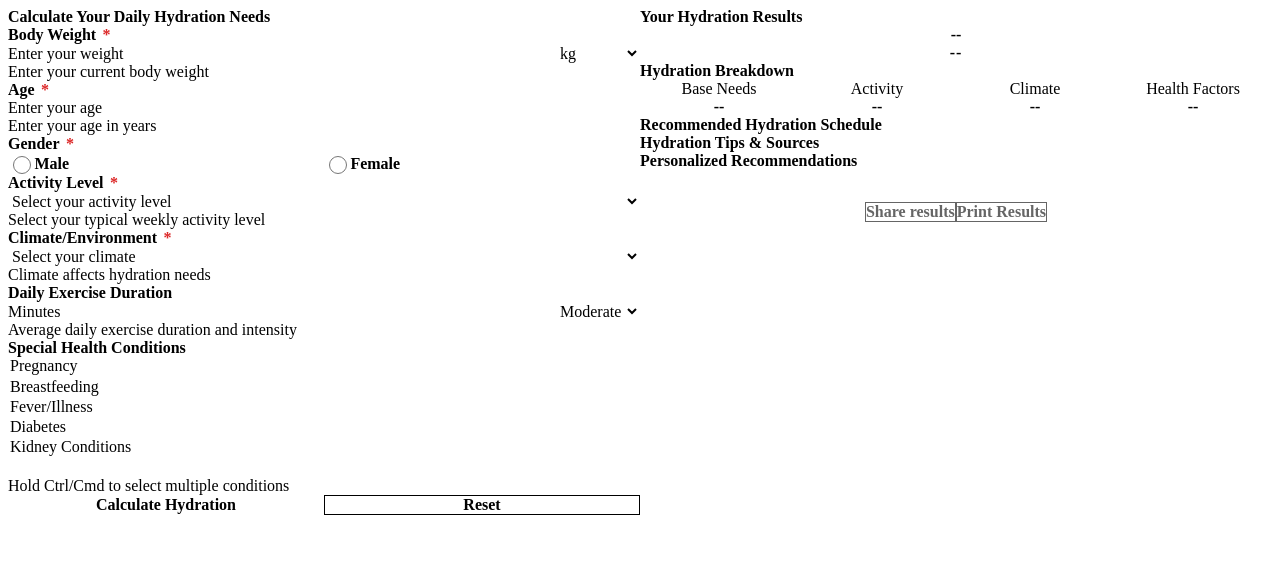
HydrationCalculator › applies multiple selected health conditions
This screenshot has width=1280, height=581.
Type "80" into the number field named "Body Weight" at (282, 54), box [8,44,556,63]
Type "30" into the number field labelled "Age" at (324, 108), box [8,99,640,117]
Click the radio button labelled "Male" at (22, 165), box [13,156,31,174]
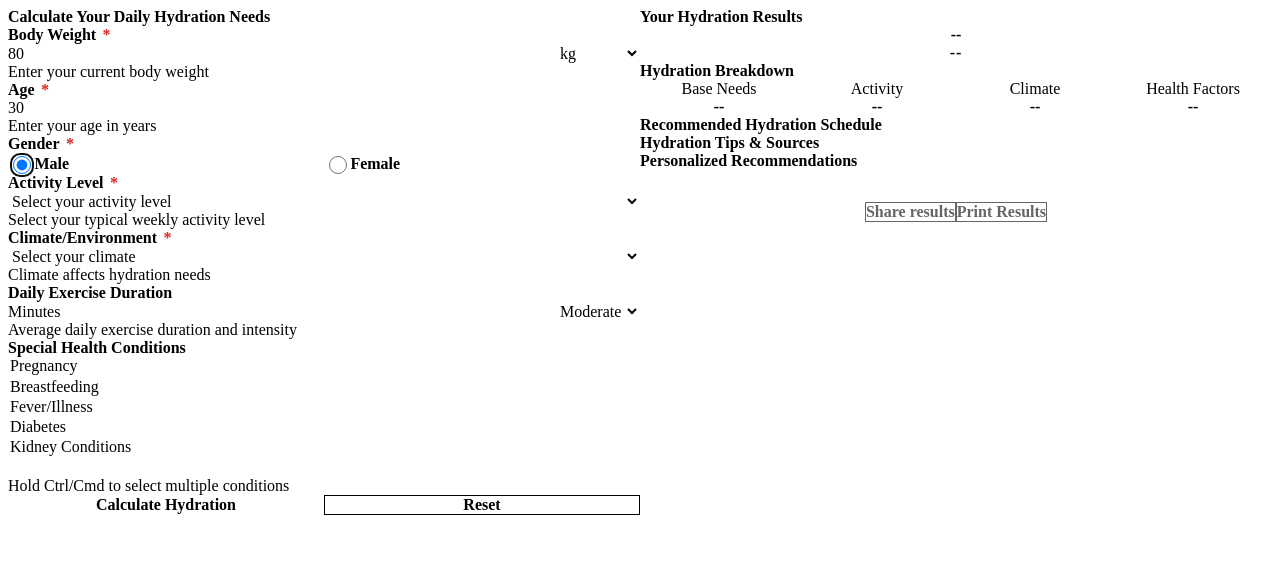
Select "Moderate (exercise 3-5 days/week)" in the dropdown labelled "Activity Level" at (324, 202), box [8,192,640,211]
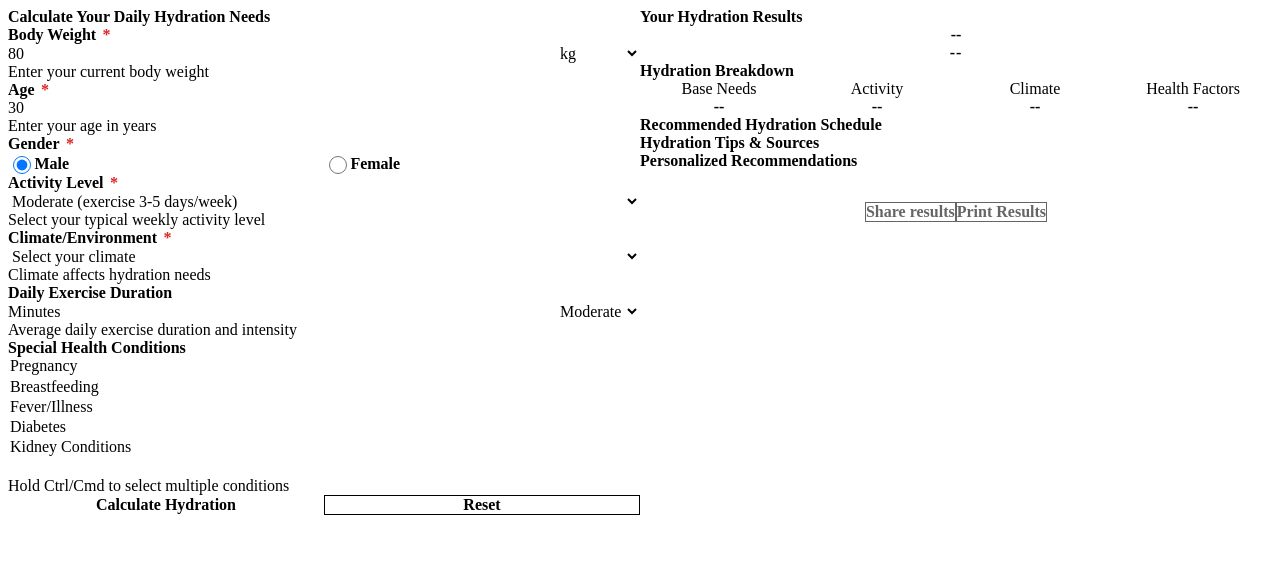
Select "Temperate (moderate temperature)" in the dropdown labelled "Climate/Environment" at (324, 257), box [8,247,640,266]
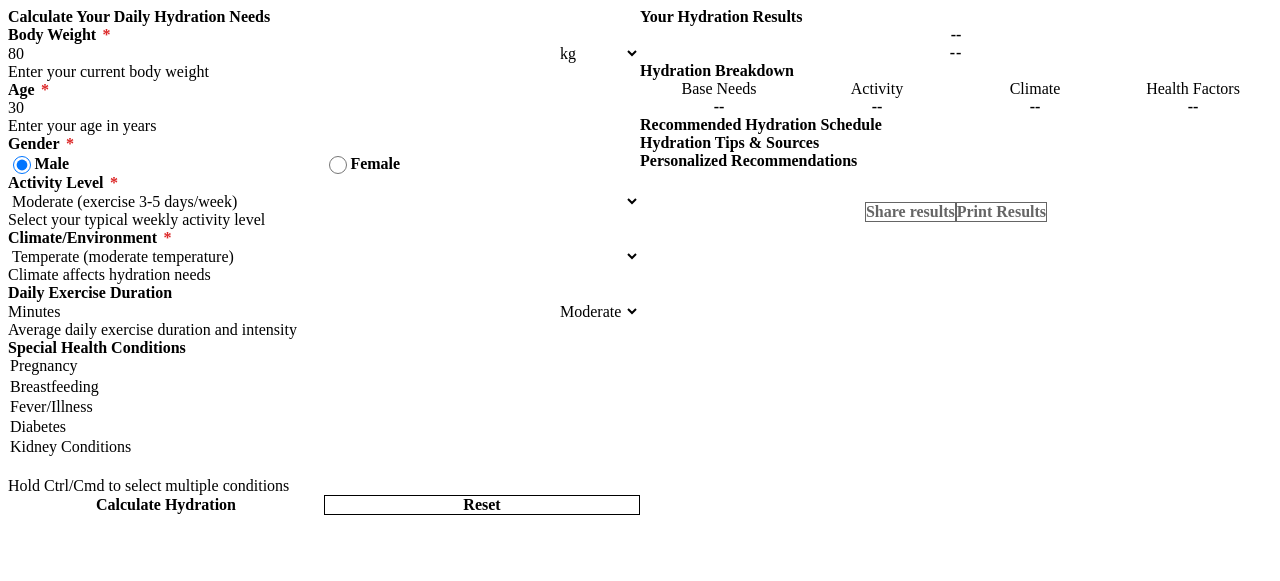
Type "60" into the number field named "Daily Exercise Duration" at (282, 312), box [8,302,556,321]
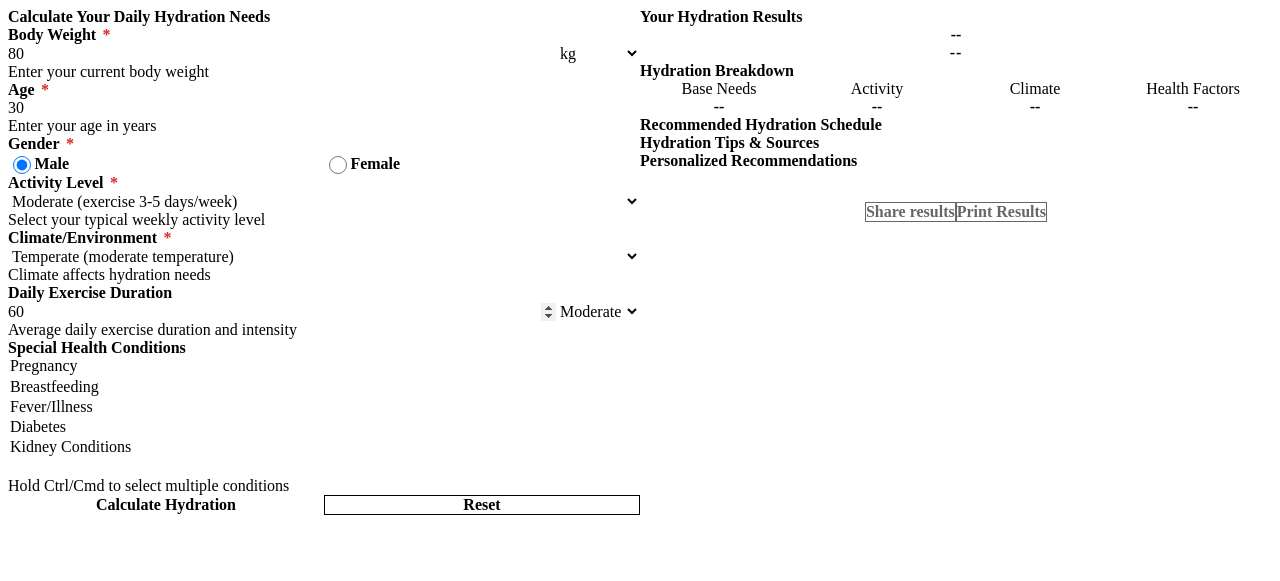
Select "pregnancy, breastfeeding" in the dropdown labelled "Special Health Conditions" at (324, 417), box [8,357,640,477]
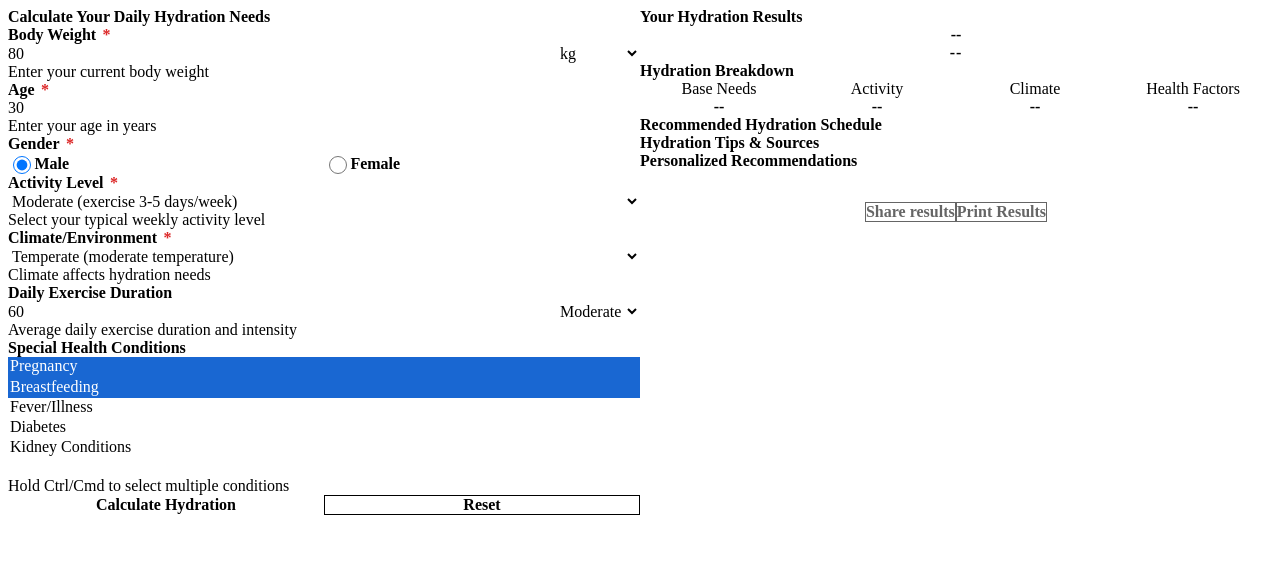
Click the button "Calculate Hydration" at (166, 505), box [8,495,324,515]
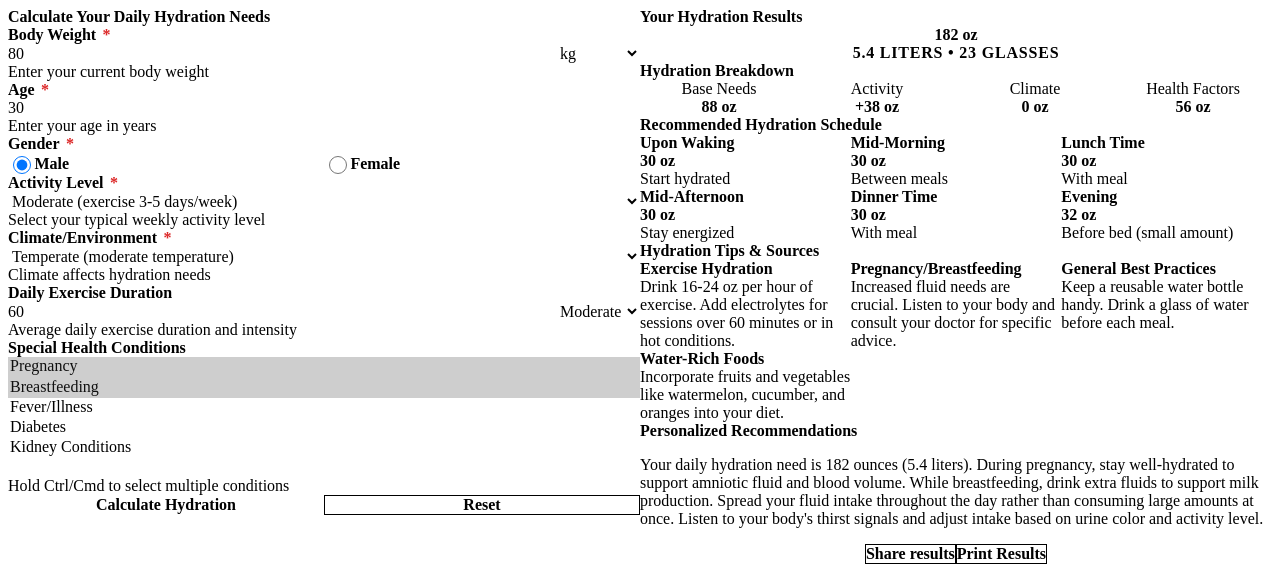
Check: the element "Your Hydration Results" shows "182 oz", box [934,26,978,43]
Check: the element "Your Hydration Results" shows "5.4 liters", box [853,44,1059,61]
Check: the element "Your Hydration Results" shows "56 oz", box [1175,98,1210,115]
